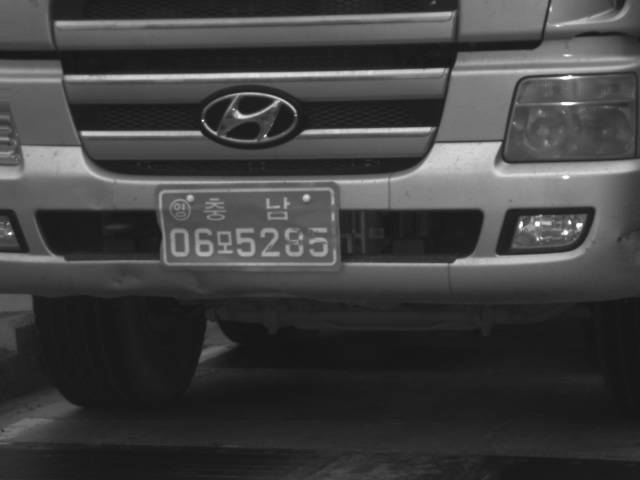car: (1, 1, 638, 410)
plate: (154, 179, 343, 269)
